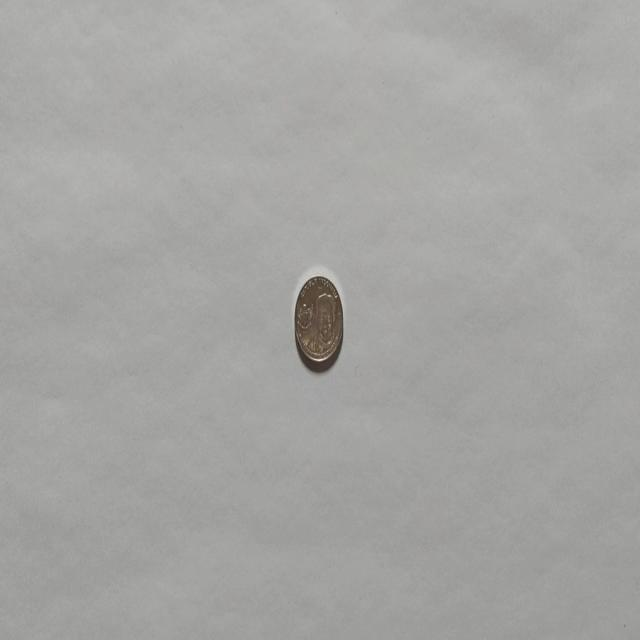seratus rupiah: (294, 273, 344, 371)
